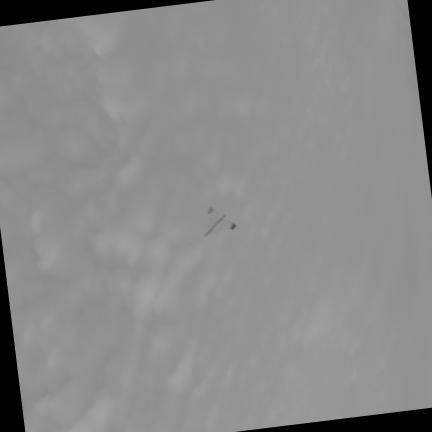Shahed: (203, 207, 235, 237)
